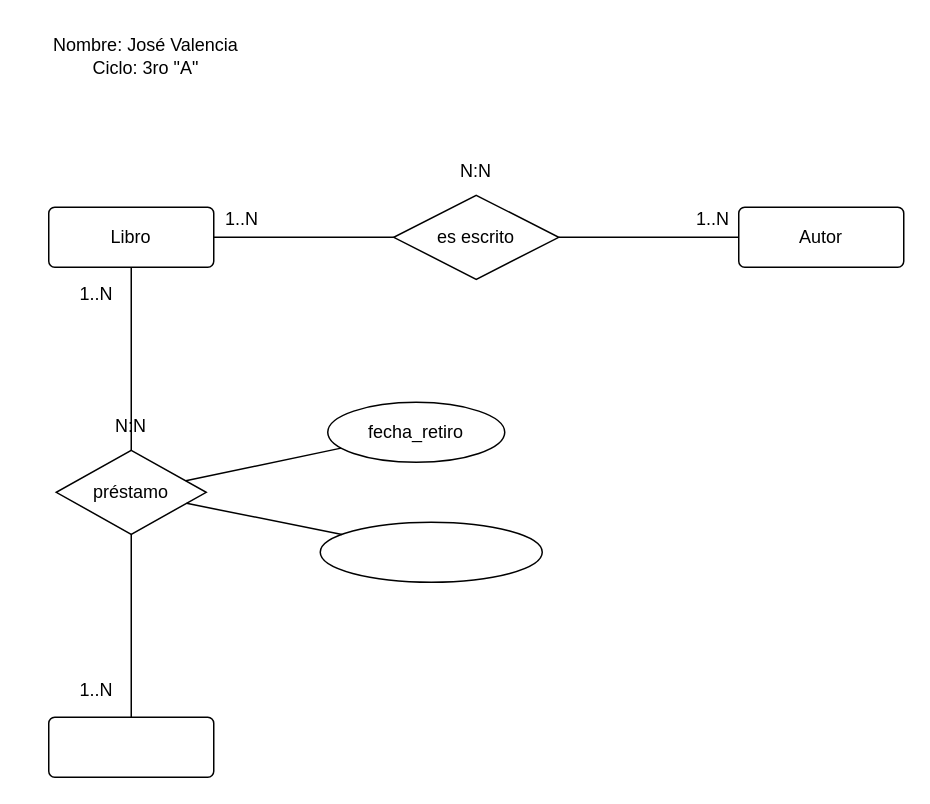
The diagram is 930 pixels wide and 804 high, and some of its shapes have lost their labels. Here are the shapes that lost their labels. From the top down, the centre of each, then its label:
At point (430, 551): "fecha_devolucion".
At point (130, 746): "Socio".
